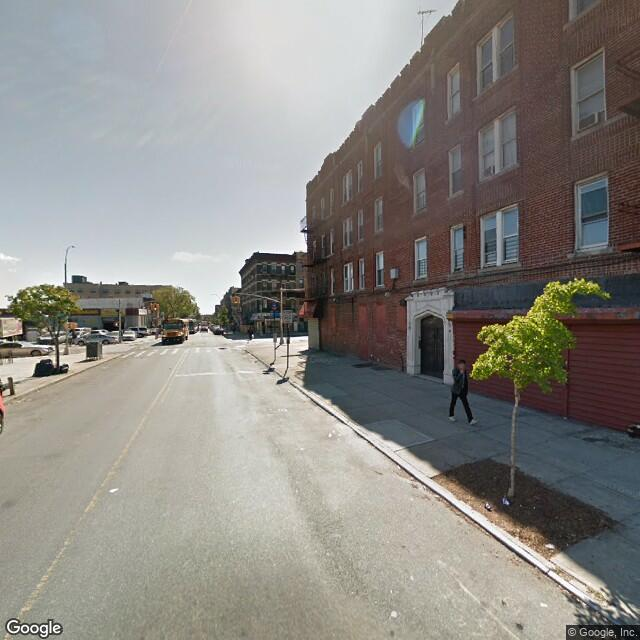litter: (388, 610, 398, 623), (106, 487, 120, 495), (539, 599, 549, 609), (481, 503, 492, 512), (545, 543, 554, 553), (499, 495, 508, 504), (328, 435, 337, 444), (559, 414, 565, 419)
